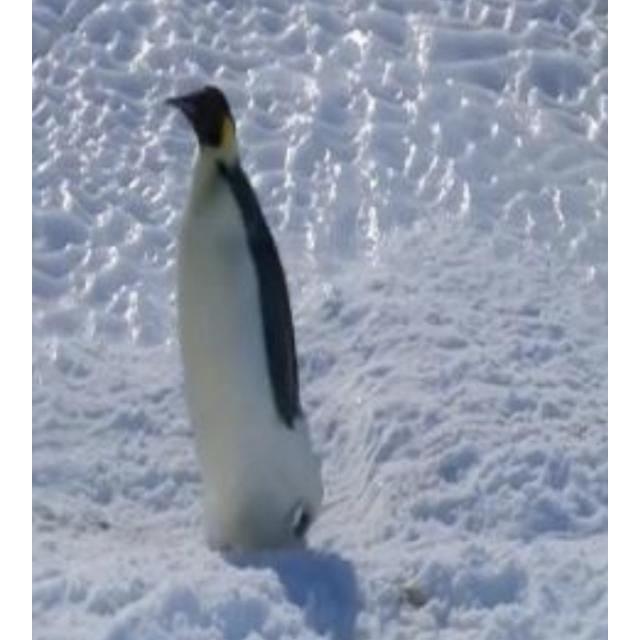penguin: (164, 84, 324, 554)
